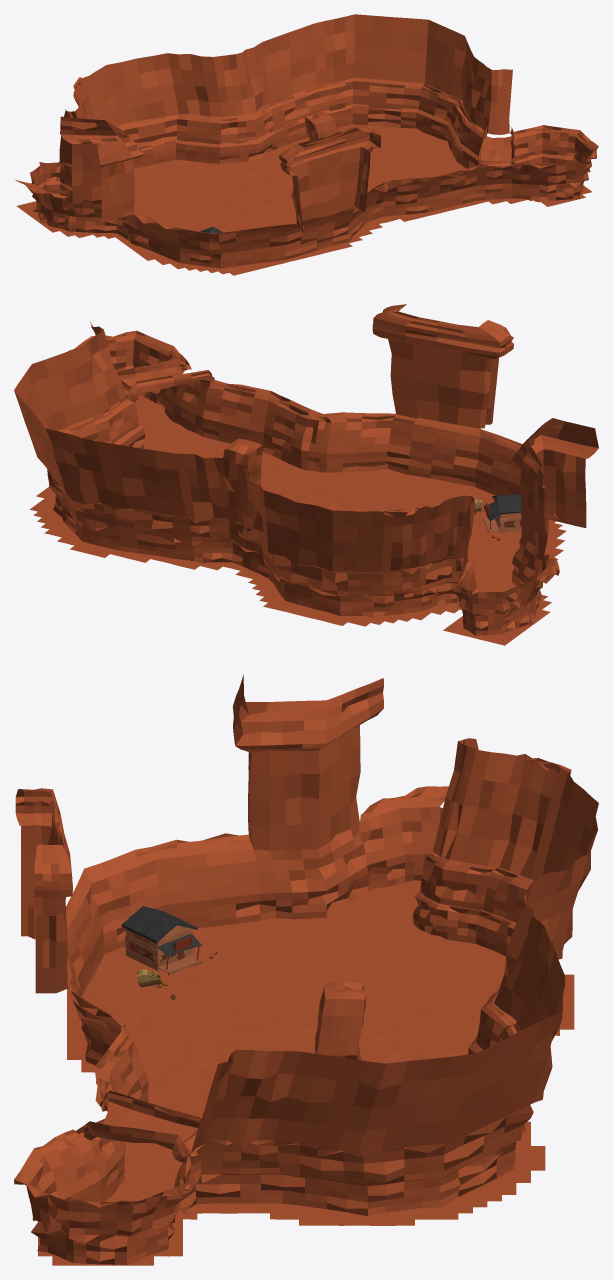
Rendered from test_map.fbx.
3 views of the same model, one above another, from view 1: azimuth 30°, elevation 25°; view 2: azimuth 150°, elevation 25°; view 3: azimuth 270°, elevation 25° (orthographic). The views are drawn at different scales.
Parts seen in each view (by area): view 1: walls, floor, middle stone; view 2: walls, floor, house, middle stone; view 3: walls, floor, house, middle stone.
Boxes of the visible parts, x1=… form: walls: x1=14, y1=14, x2=598, y2=268; floor: x1=16, y1=124, x2=591, y2=275; middle stone: x1=304, y1=112, x2=337, y2=140; walls: x1=14, y1=304, x2=598, y2=635; floor: x1=30, y1=395, x2=566, y2=645; house: x1=483, y1=493, x2=521, y2=533; middle stone: x1=223, y1=438, x2=262, y2=486; walls: x1=14, y1=674, x2=598, y2=1264; floor: x1=38, y1=880, x2=574, y2=1265; house: x1=121, y1=906, x2=202, y2=975; middle stone: x1=315, y1=981, x2=366, y2=1060.
Size of the model in its own units: 13548 by 3363 by 8069.
